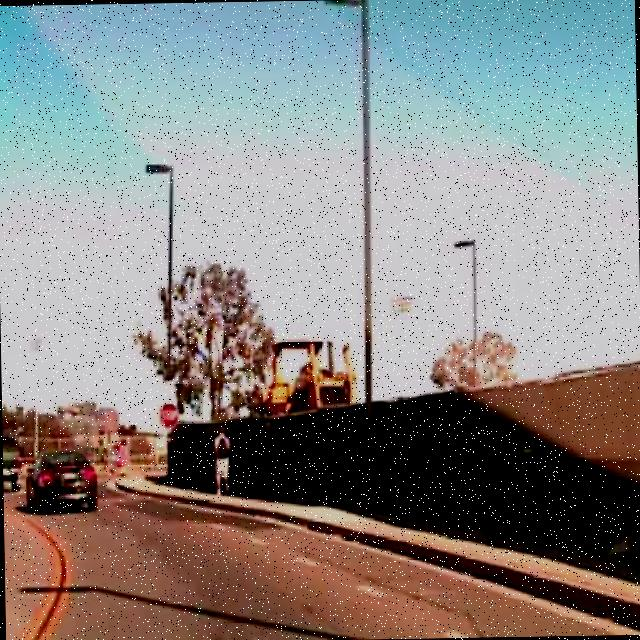Stop: (158, 401, 178, 429)
